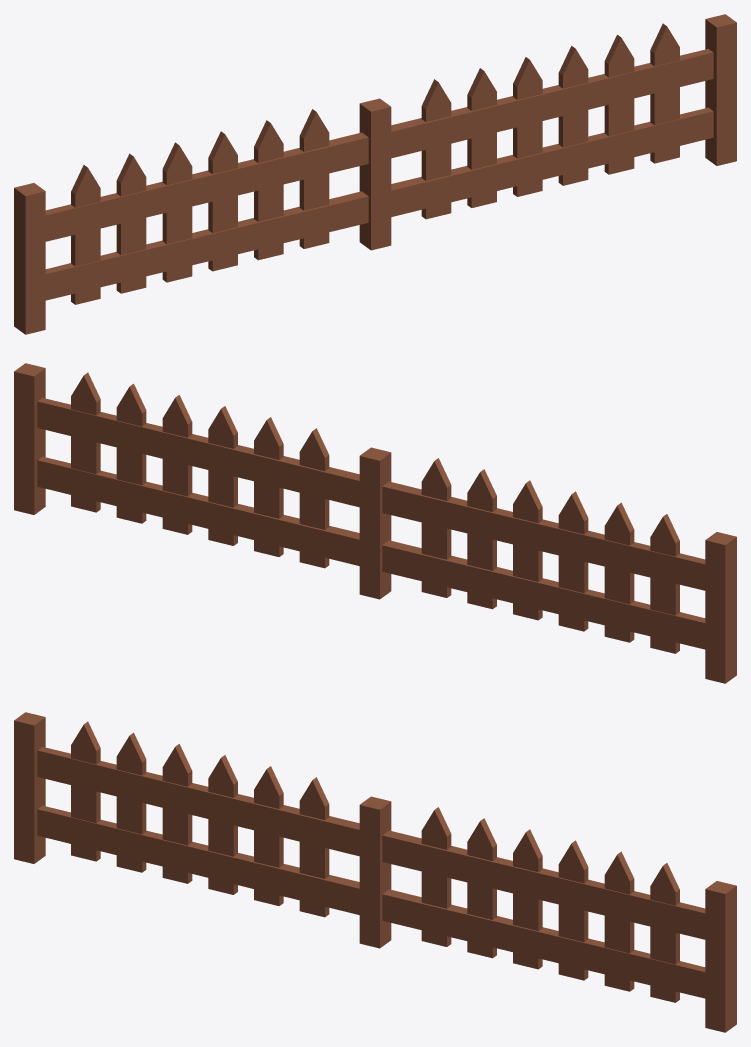
The model's file is Fence2.glb.
3 renders of one model, top to bottom at view 1: azimuth 30°, elevation 25°; view 2: azimuth 150°, elevation 25°; view 3: azimuth 330°, elevation 25°, orthographic.
Visible parts, largest first — view 1: Fence2; view 2: Fence2; view 3: Fence2.
Part boxes in pixels (box(x1,y1,x2,y2)): Fence2: box(14, 14, 736, 334); Fence2: box(14, 363, 736, 683); Fence2: box(14, 712, 736, 1032).
Size of the model in its own units: 5.89 by 1.17 by 0.1655.
